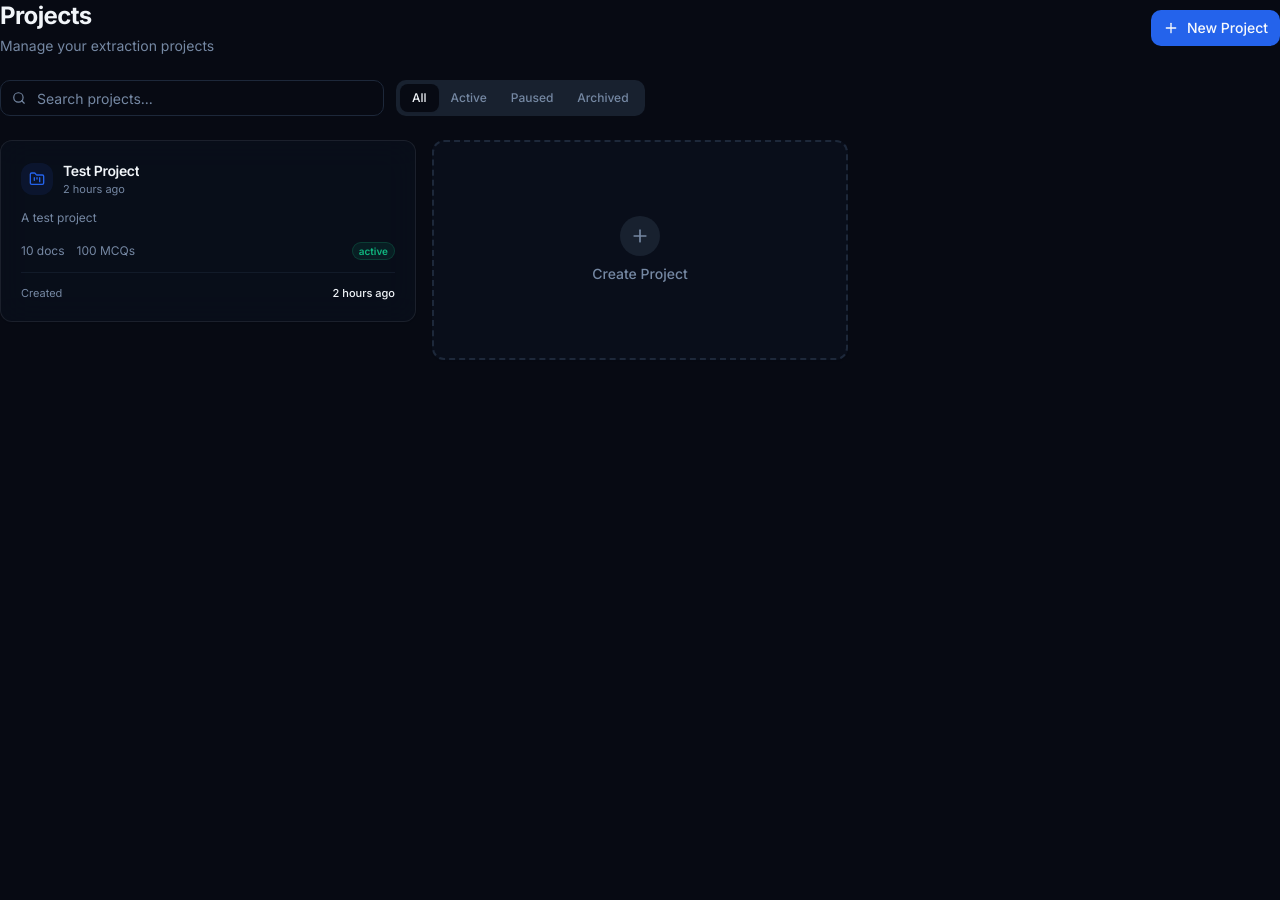
Test: Projects › shows create dialog when clicking New Project
Click the button "New Project": point(1215, 28) [1151,10,1279,46]
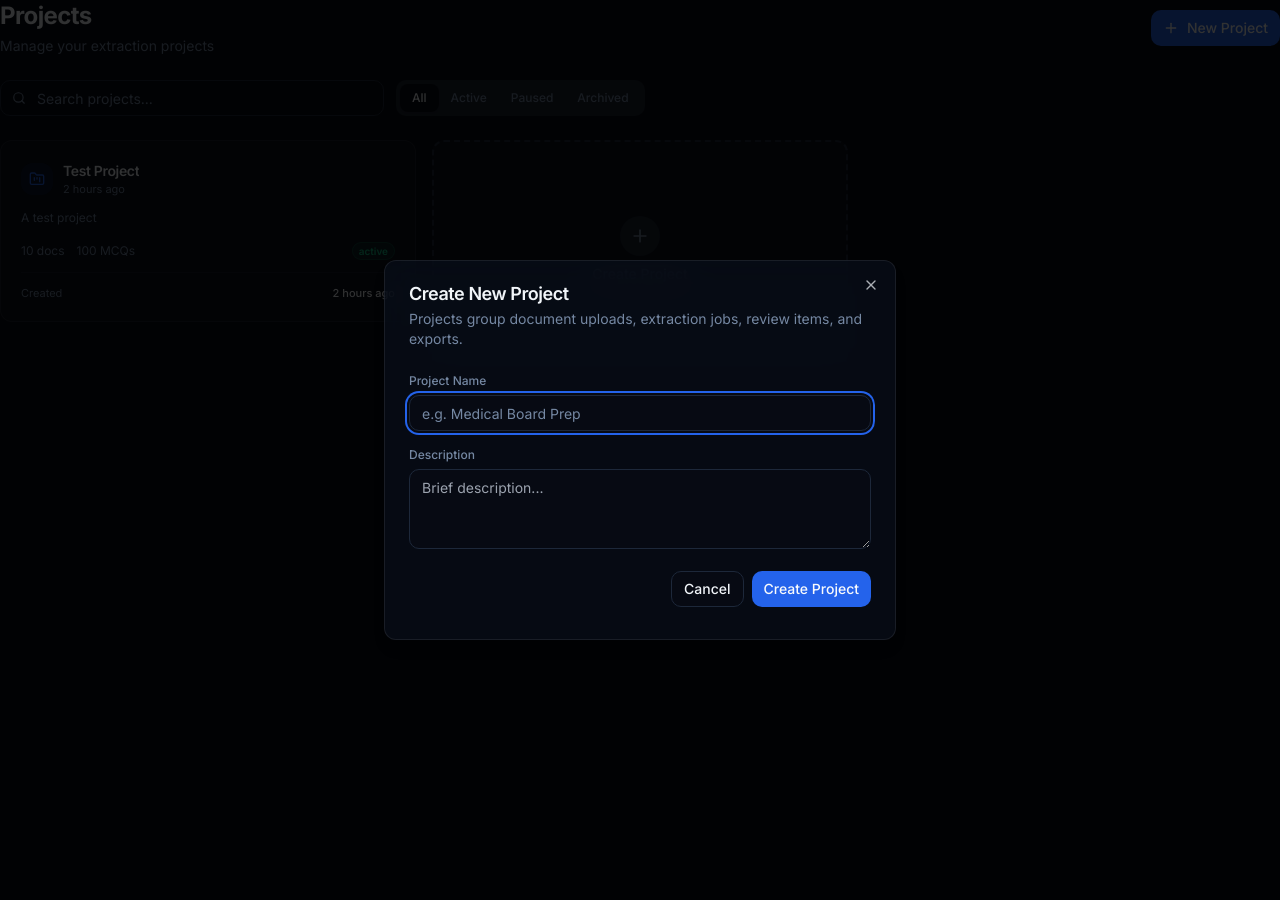
Now the heading "Create New Project" is shown, box [409,283,569,304]
